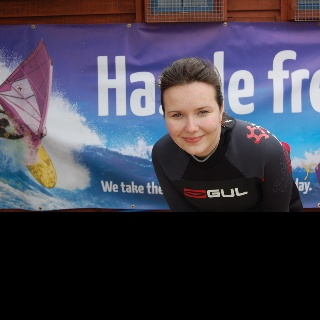without_mask: (162, 82, 219, 155)
